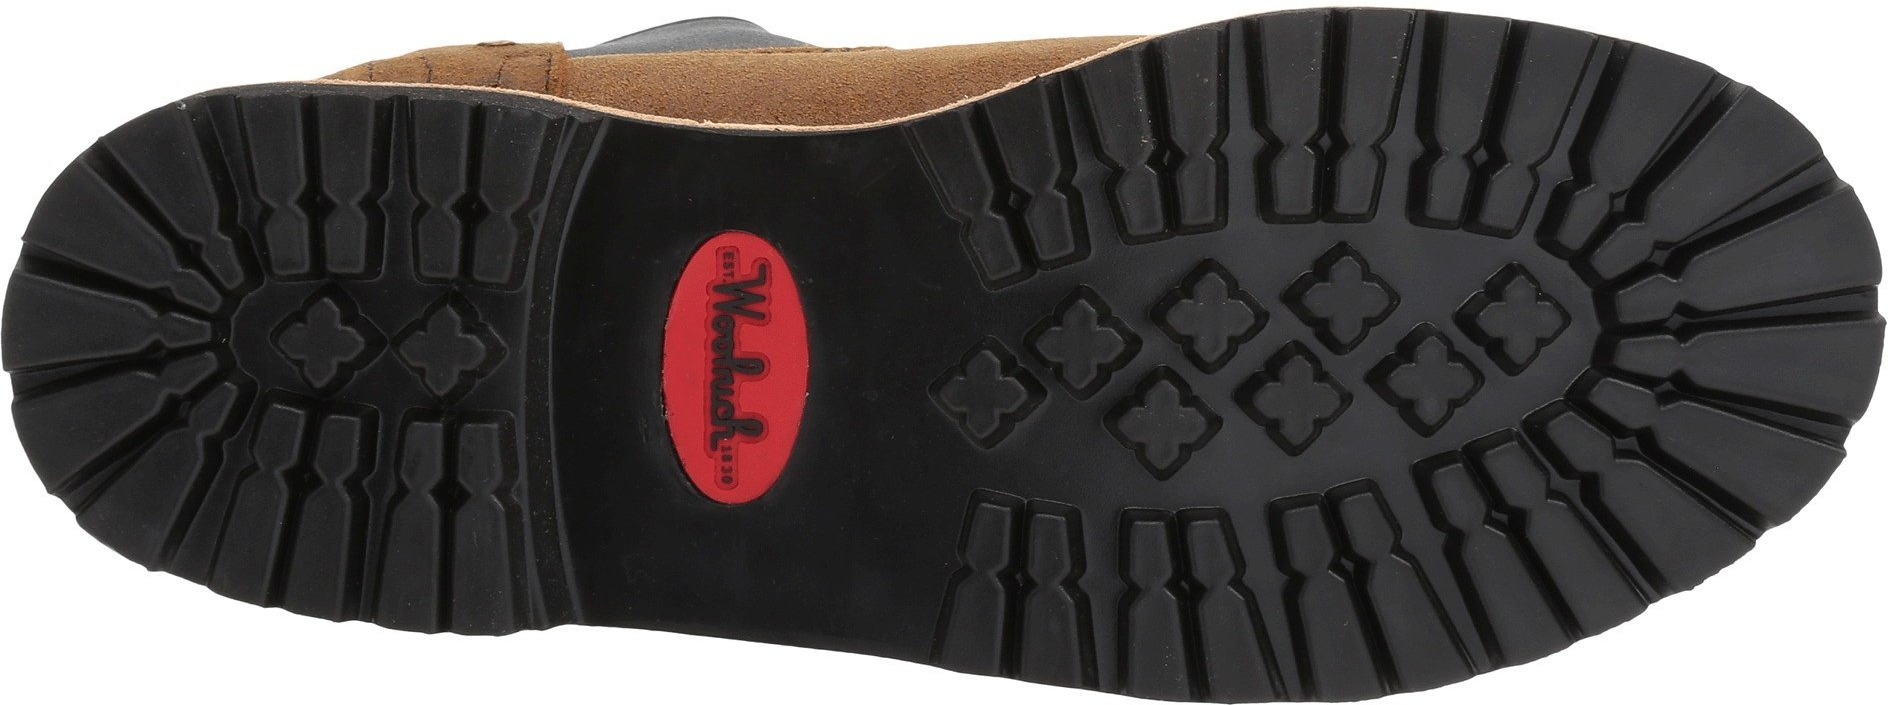bowtie: (1605, 218, 1816, 432), (26, 260, 228, 454), (1423, 32, 1601, 235), (1418, 450, 1644, 609), (924, 475, 1108, 657), (1119, 488, 1294, 673), (1235, 57, 1409, 224), (228, 109, 401, 271), (220, 410, 394, 562)
circle: (595, 224, 881, 514)
exclude: (179, 0, 1181, 136)
quad: (595, 224, 881, 514)
star: (387, 291, 503, 403), (267, 288, 380, 395)
text: (595, 224, 881, 514), (696, 260, 779, 340), (696, 337, 775, 410), (697, 404, 773, 480)
